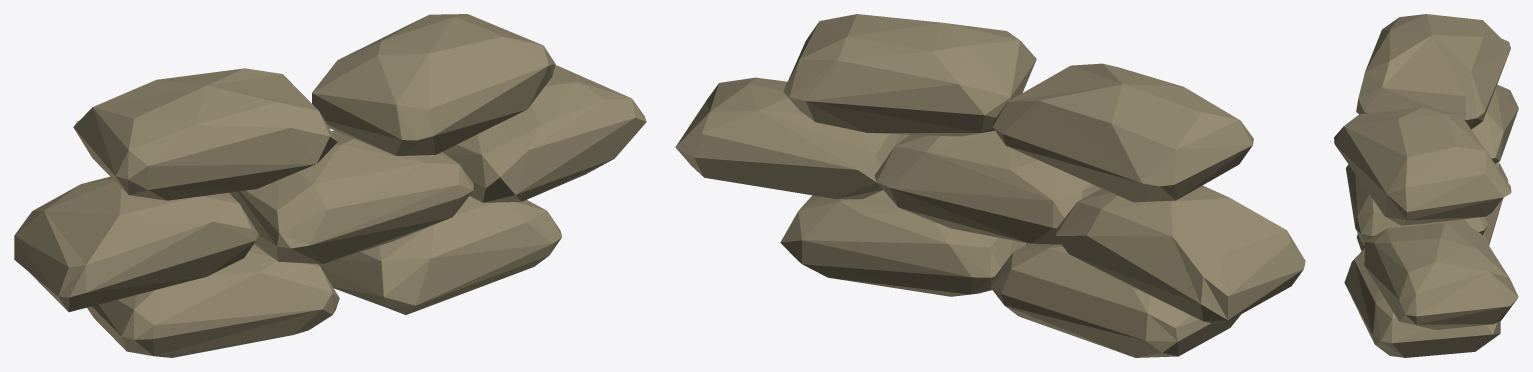
File: sack_trench_small_lod.glb
3 views of the same model, side by side, from view 1: azimuth 30°, elevation 25°; view 2: azimuth 150°, elevation 25°; view 3: azimuth 270°, elevation 25° (orthographic). The views are drawn at different scales.
Visible parts, largest first — view 1: SackTrench_Small; view 2: SackTrench_Small; view 3: SackTrench_Small.
Part boxes in pixels (x1=…): SackTrench_Small: x1=14, y1=14, x2=646, y2=357; SackTrench_Small: x1=675, y1=14, x2=1305, y2=357; SackTrench_Small: x1=1334, y1=14, x2=1518, y2=357.
Size of the model in its own units: 2.32 by 0.9282 by 0.7472.
